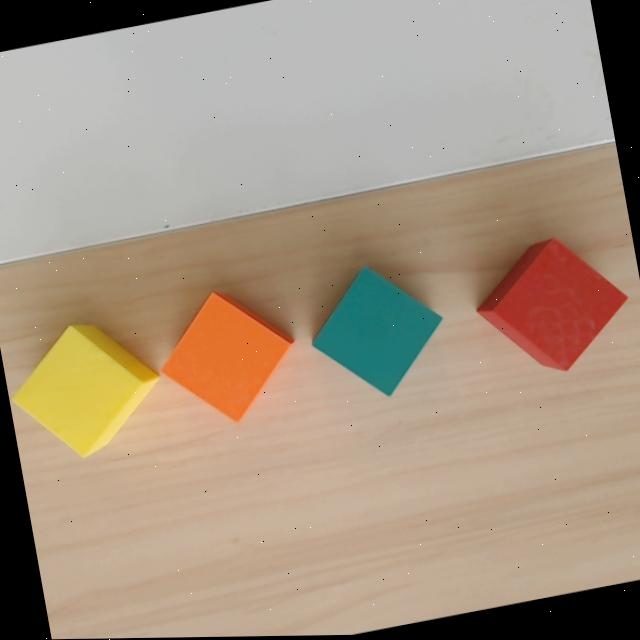Kubus-Hijau-505050: (310, 264, 442, 396)
Kubus-Jingga-505050: (158, 287, 294, 425)
Kubus-Kuning-505050: (10, 312, 160, 463)
Kubus-Merah-505050: (475, 228, 627, 380)
